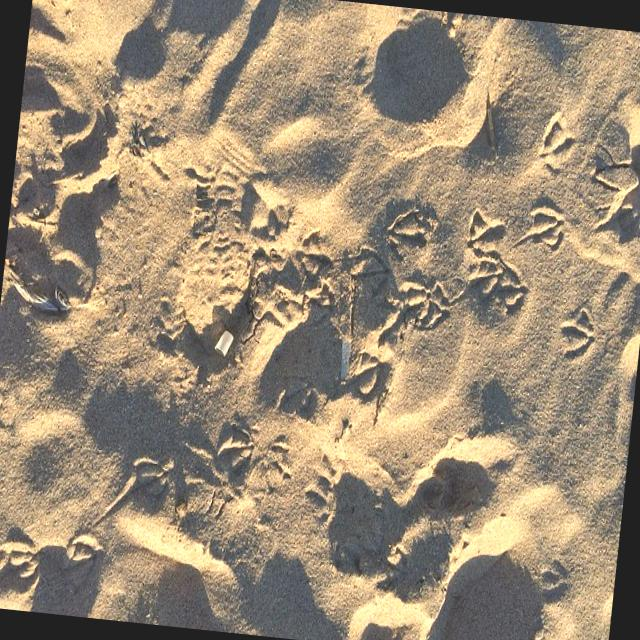Trash: (15, 280, 75, 314), (334, 326, 361, 388), (213, 324, 236, 358)
